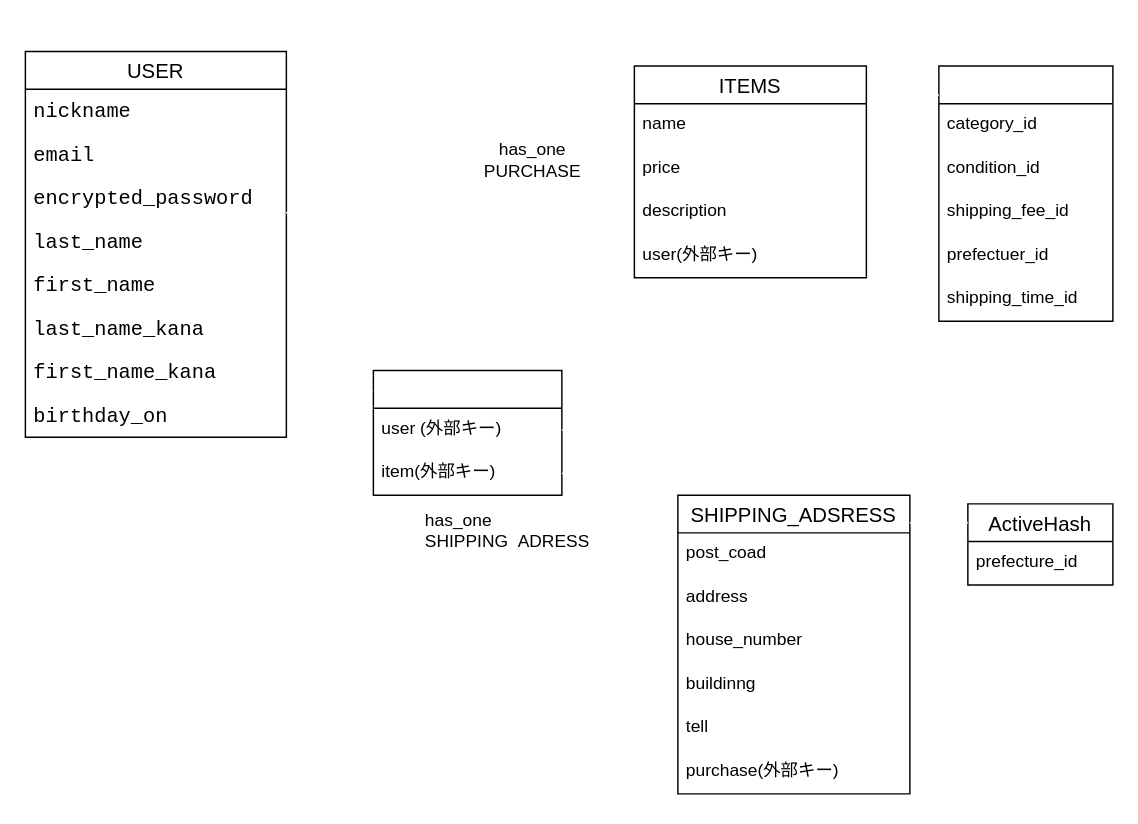
Image size: 1138x824. Some labels were removed from this diagram. The box of each missing label's shape, as (x1, y1, x2, y2) in pixels:
ActivHash: (937, 65, 1113, 321)
PURCHASE: (372, 369, 562, 495)
